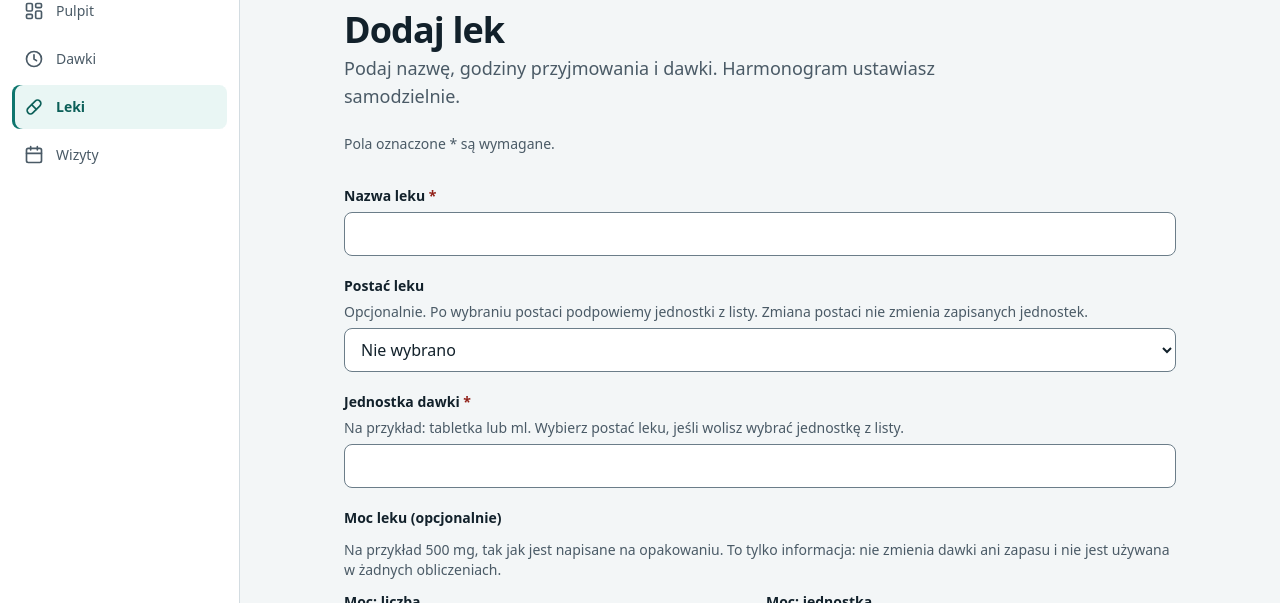
Test: add medication: strength › refuses the strength "0"
Check: the heading "Dodaj lek" is shown, box left=344, top=5, right=504, bottom=54
Type "Demoxal" into the field labelled "Nazwa leku".
click(760, 234); type("Demoxal")  # box left=344, top=212, right=1176, bottom=256
Type "tabletka" into the field labelled "Jednostka dawki *".
click(760, 466); type("tabletka")  # box left=344, top=444, right=1176, bottom=488
(page scrolled)
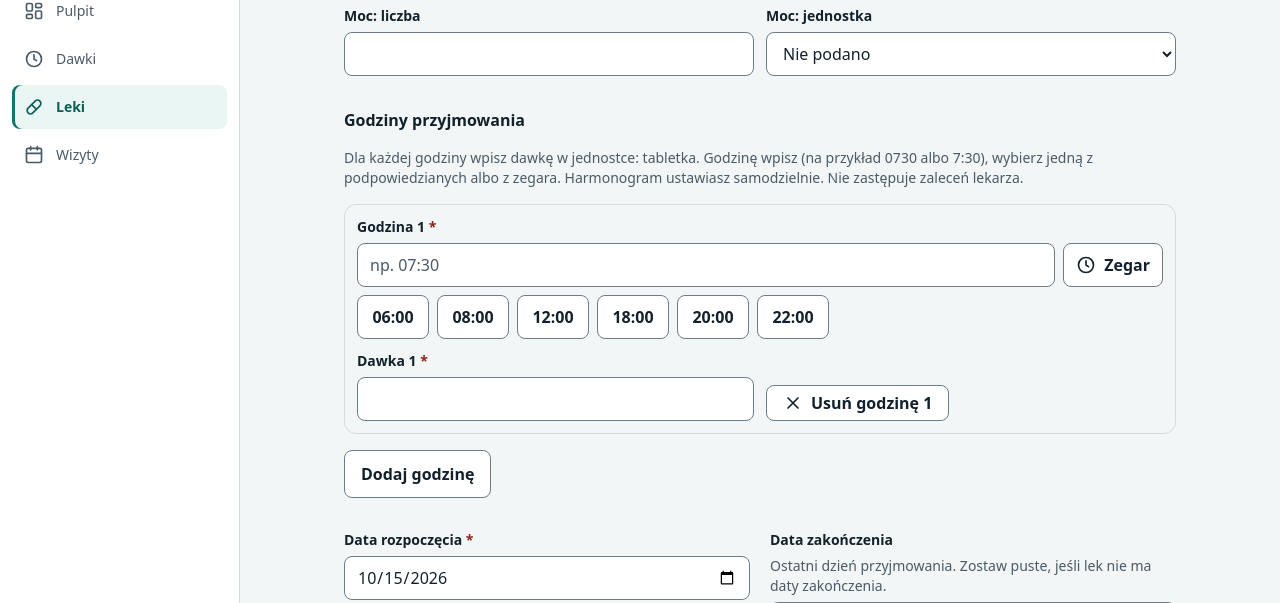
Type "08:00" into the field labelled "Godzina 1 *".
click(706, 265); type("08:00")  # box left=357, top=243, right=1055, bottom=287
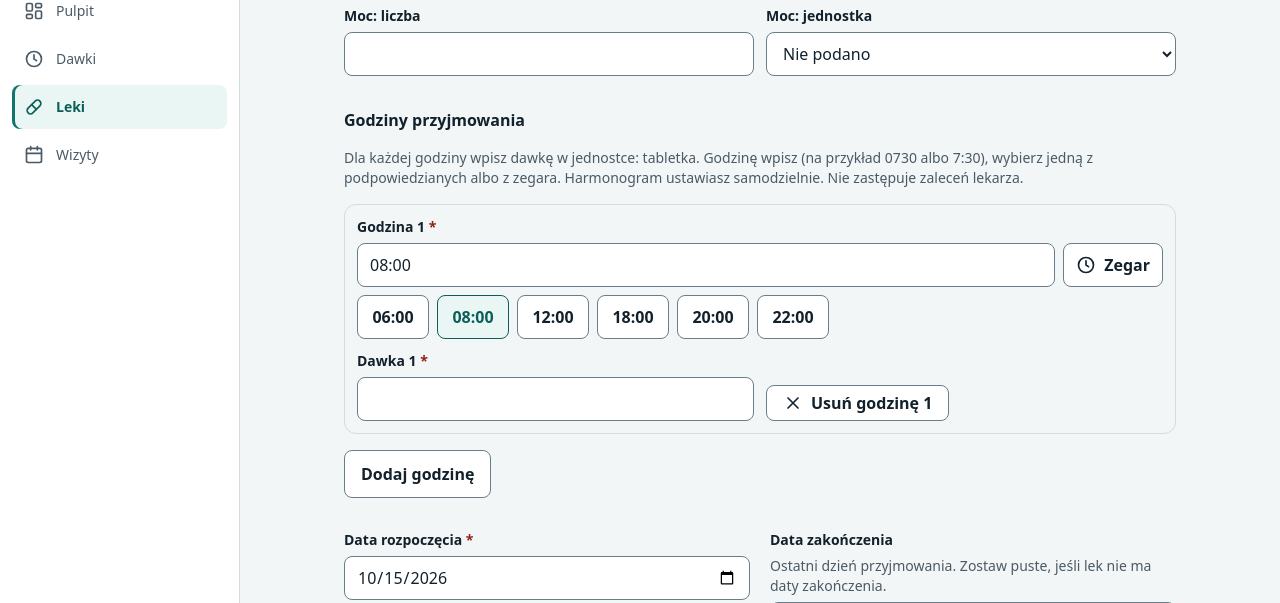
Type "1" into the field labelled "Dawka 1 *".
click(556, 399); type("1")  # box left=357, top=377, right=754, bottom=421
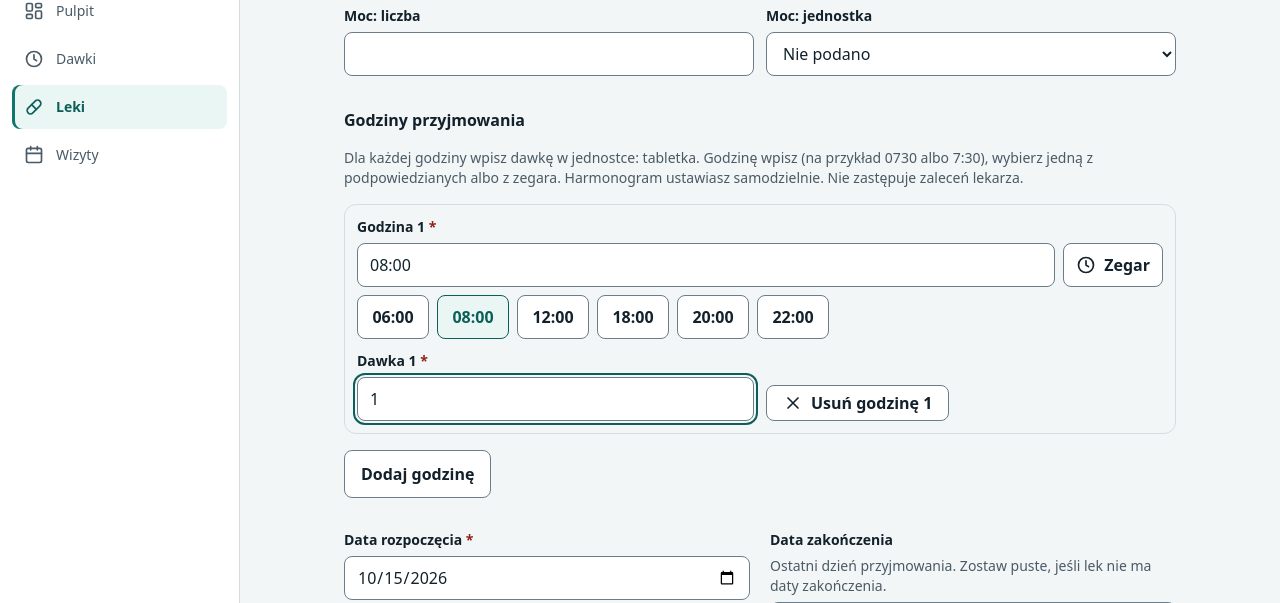
Type "0" into the field labelled "Moc: liczba".
click(549, 54); type("0")  # box left=344, top=32, right=754, bottom=76
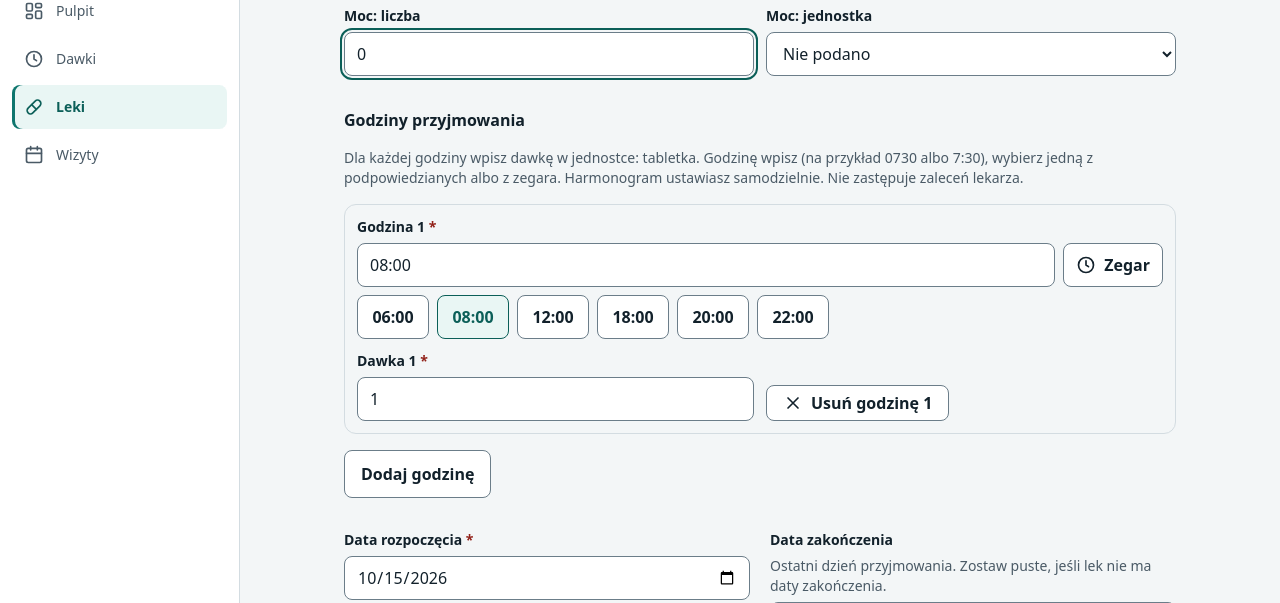
Select "mg" in the dropdown labelled "Moc: jednostka" at (971, 54), box left=766, top=32, right=1176, bottom=76
(page scrolled)
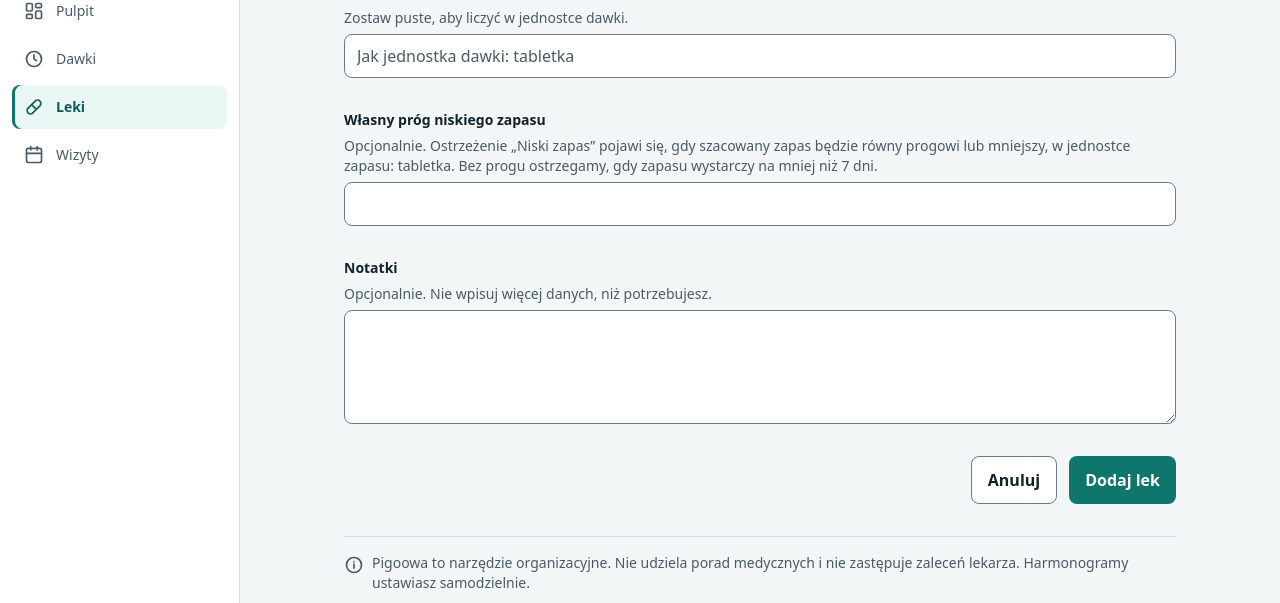
Click the button "Dodaj lek".
click(1123, 480)  # box left=1069, top=456, right=1176, bottom=504
(page scrolled)
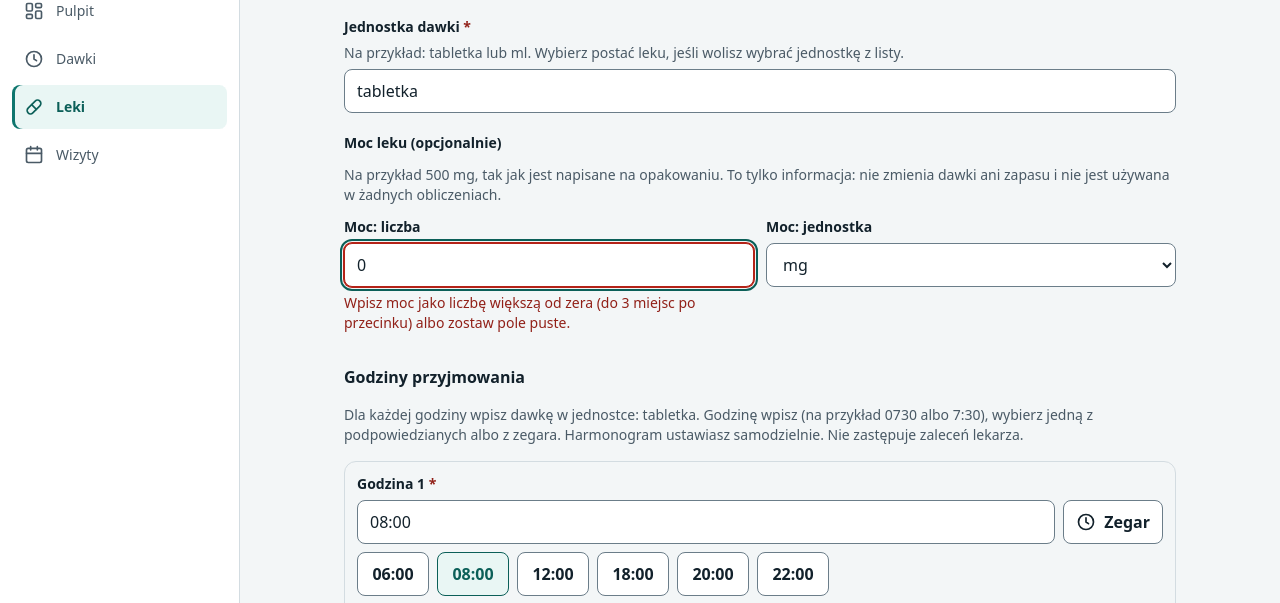
Check: the text "Wpisz moc jako liczbę większą od zera" is shown, box left=344, top=293, right=696, bottom=332
